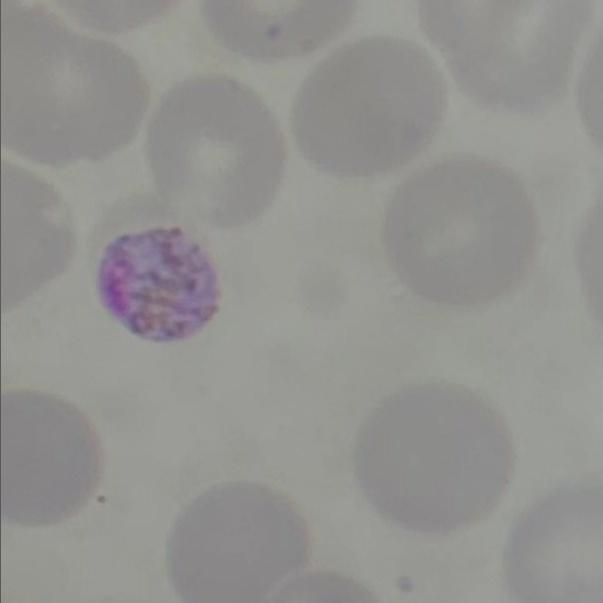Infected: (90, 206, 222, 339)
Uninfected: (350, 381, 512, 537), (0, 0, 147, 167), (381, 157, 541, 304), (288, 36, 447, 178), (152, 74, 284, 225), (415, 0, 589, 113), (165, 486, 307, 603), (0, 391, 103, 526)
